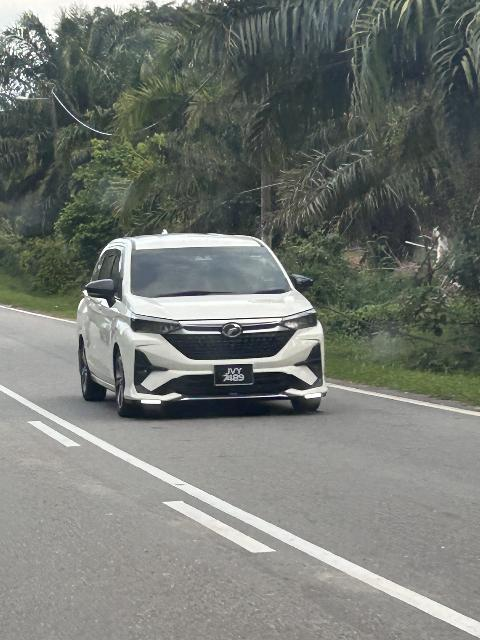JVY7489: (212, 364, 256, 389)
License_Plate: (212, 364, 256, 389)
car: (74, 231, 331, 418)
